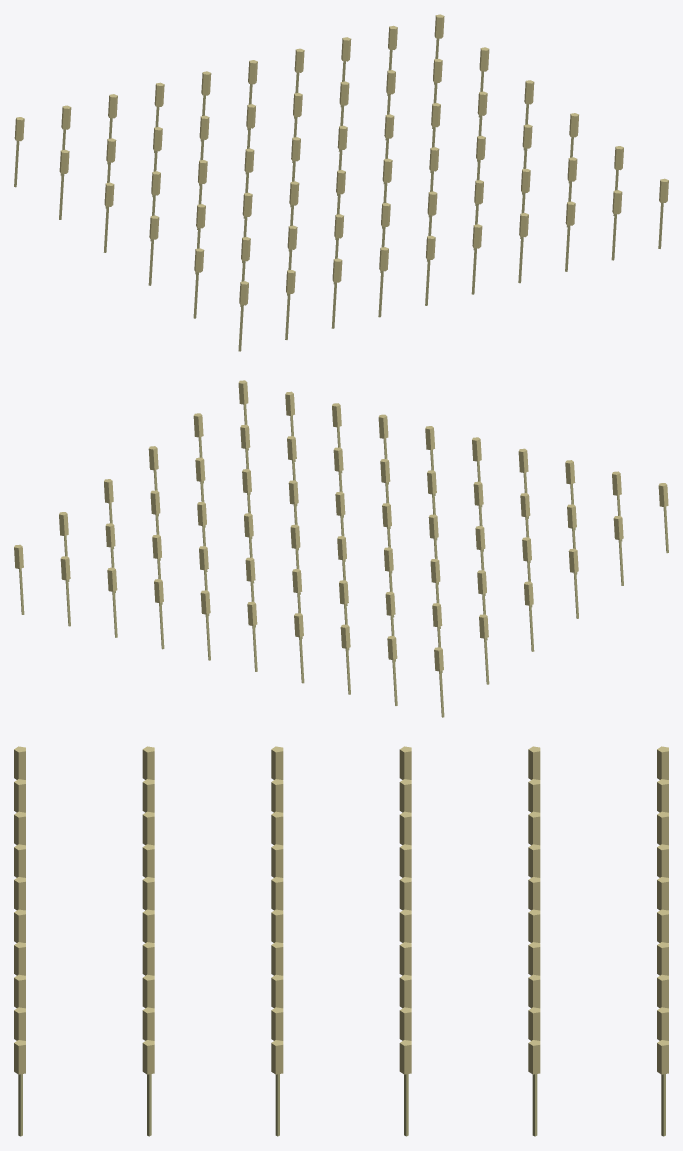
3 renders of one model, top to bottom at view 1: azimuth 30°, elevation 25°; view 2: azimuth 150°, elevation 25°; view 3: azimuth 270°, elevation 25°, orthographic. The views are drawn at different scales.
Size of the model in its own units: 7.19 by 1.08 by 6.62.
